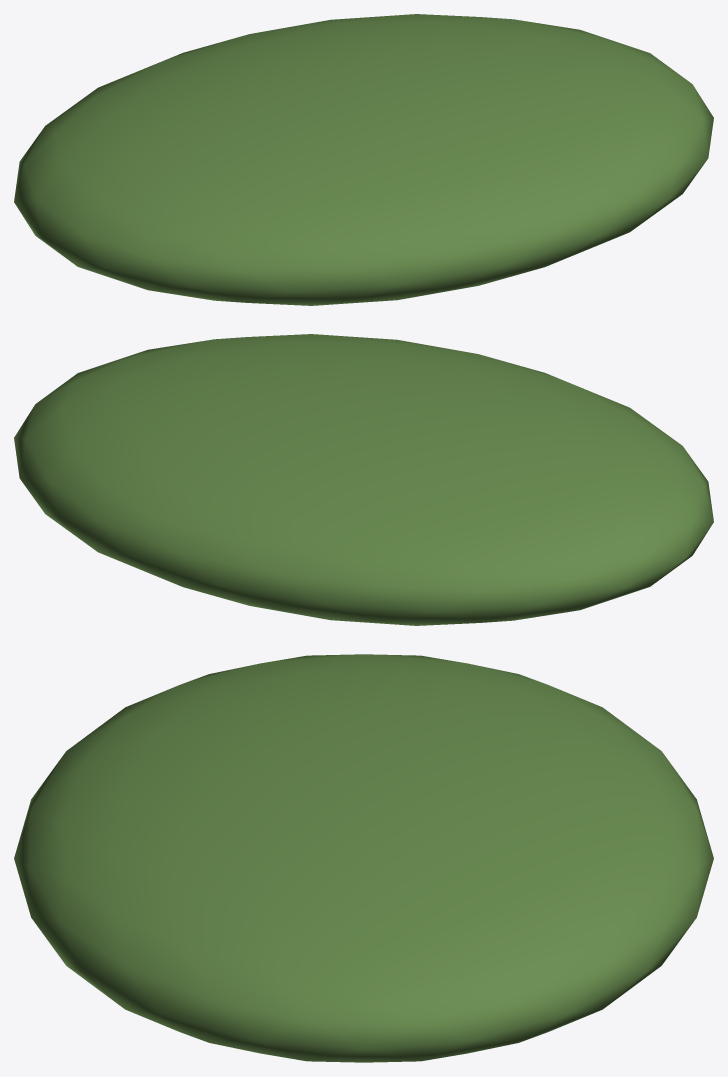
The model's file is SM_Env_IslandGrass.fbx.
The picture shows the model from 3 angles, top to bottom: view 1: azimuth 30°, elevation 25°; view 2: azimuth 150°, elevation 25°; view 3: azimuth 270°, elevation 25°; orthographic projection. The views are drawn at different scales.
Visible parts, largest first — view 1: Terrain_piece; view 2: Terrain_piece; view 3: Terrain_piece.
Boxes of the visible parts, <box> form: Terrain_piece: <box>14,14,713,305</box>; Terrain_piece: <box>14,334,713,625</box>; Terrain_piece: <box>14,654,713,1062</box>.
Size of what is drawn, in the model's own units: 310 by 240 by 60.
